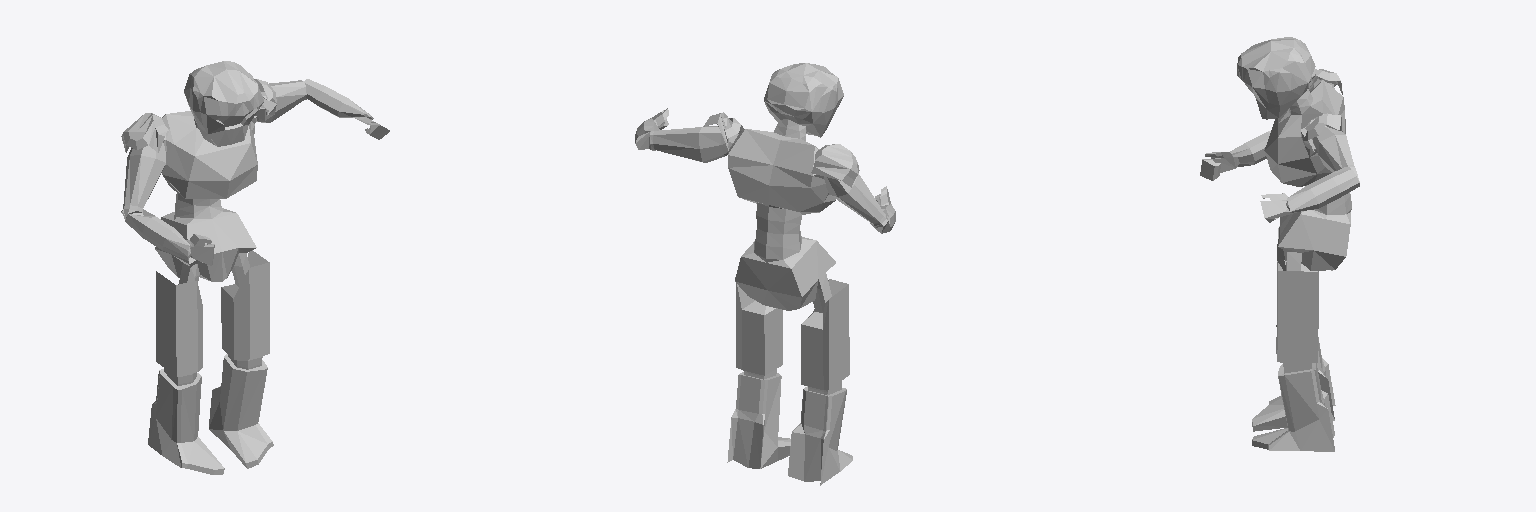
Rendered from Shputnik-Punch2.obj.
3 views of the same model, side by side, from view 1: azimuth 30°, elevation 25°; view 2: azimuth 150°, elevation 25°; view 3: azimuth 270°, elevation 25° (orthographic).
Parts seen in each view (by area): view 1: Shputnik_Mesh; view 2: Shputnik_Mesh; view 3: Shputnik_Mesh.
Part boxes in pixels (x1,y1,x2,y2): Shputnik_Mesh: (121,61,389,474); Shputnik_Mesh: (635,63,895,485); Shputnik_Mesh: (1200,37,1359,451).
Bounding box in the file's own units: 8.09 × 12.04 × 4.4.